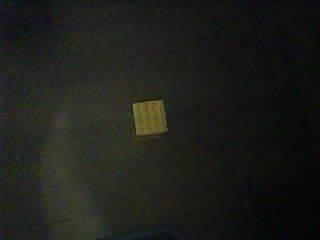lego: (132, 100, 169, 136)
